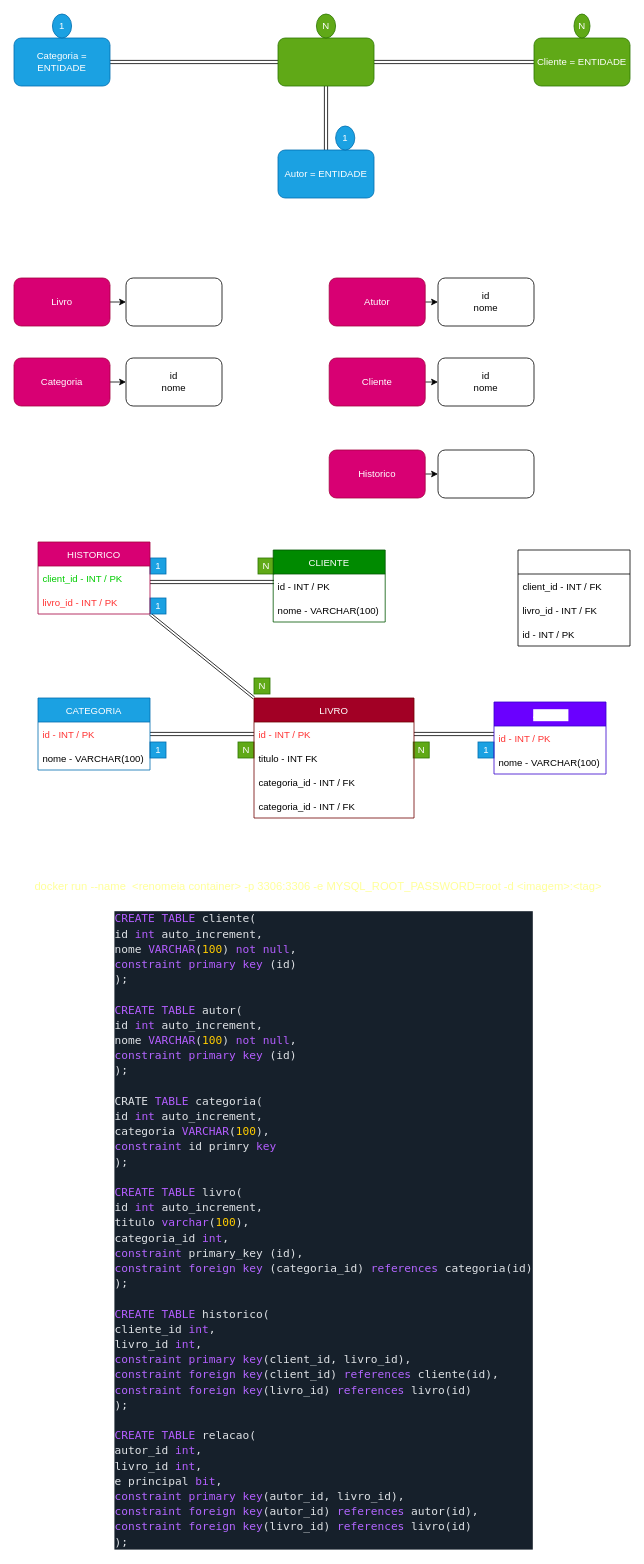
The diagram is 644 pixels wide and 1564 high, and some of its shapes have lost their labels. Each missing label, with the box of its shape:
HISTORICO {2): (517, 549, 630, 646)
id titulo autor_id categoria_id: (125, 277, 222, 326)
Livro = ENTIDADE: (277, 37, 374, 86)
livro_id client_id: (437, 449, 534, 498)
